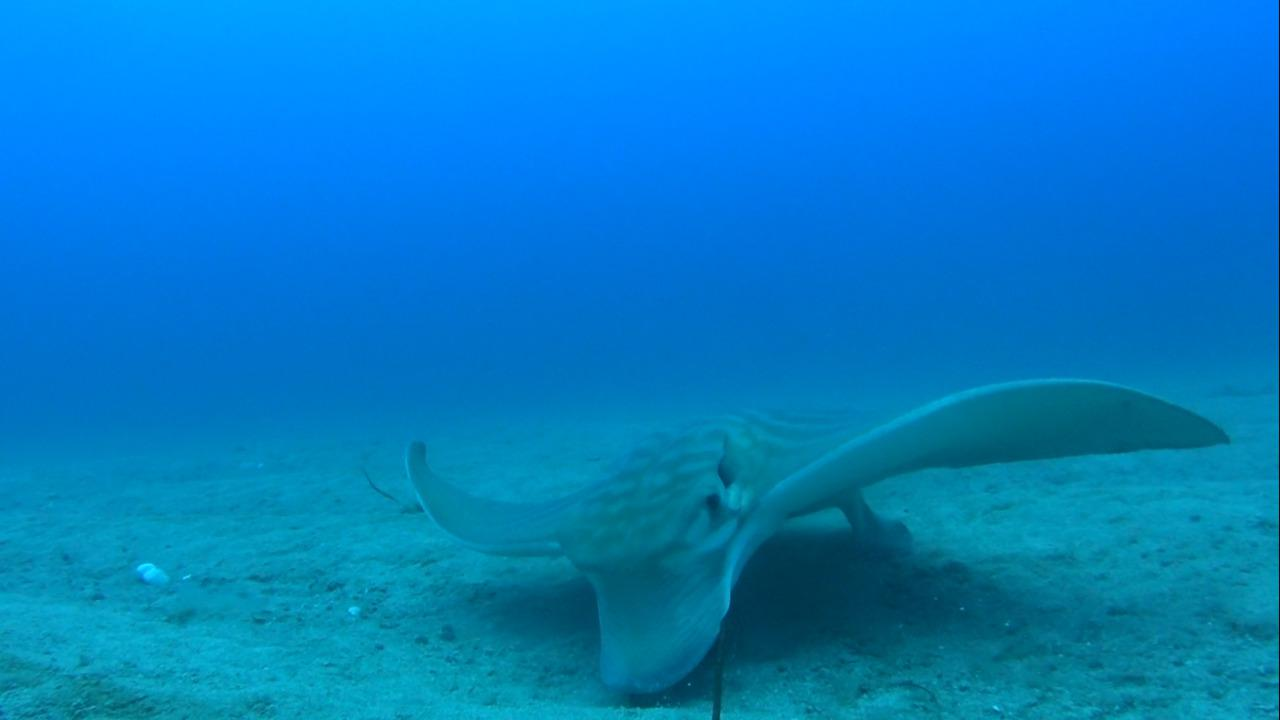myliobatis: (401, 370, 1236, 699)
